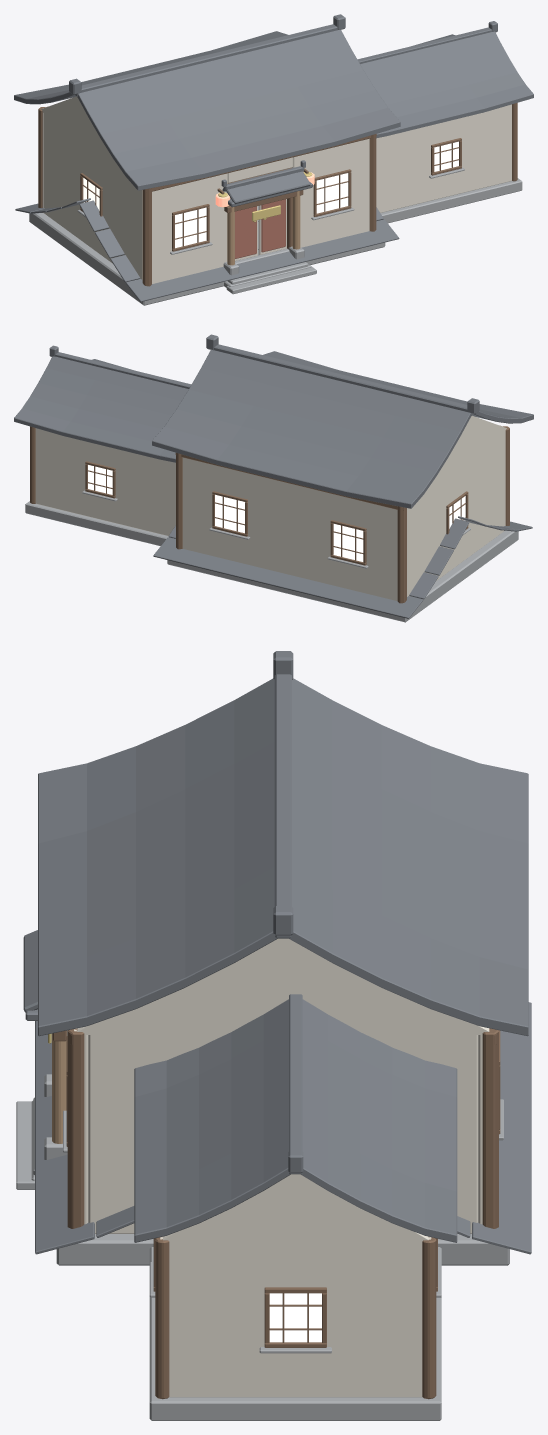
Rendered from house_l2.glb.
The picture shows the model from 3 angles, top to bottom: view 1: azimuth 30°, elevation 25°; view 2: azimuth 150°, elevation 25°; view 3: azimuth 270°, elevation 25°; orthographic projection. The views are drawn at different scales.
Visible parts, largest first — view 1: Roof_All, Wall_All, Decor_All; view 2: Roof_All, Wall_All; view 3: Roof_All, Wall_All, Decor_All.
Part boxes in pixels (x1,y1,x2,y2): Roof_All: (14, 14, 533, 301); Wall_All: (29, 96, 522, 305); Decor_All: (215, 160, 316, 294); Roof_All: (14, 334, 533, 618); Wall_All: (25, 415, 518, 622); Roof_All: (23, 651, 531, 1254); Wall_All: (56, 938, 509, 1420); Decor_All: (16, 1030, 67, 1189).
Bounding box in the file's own units: 15.75 × 6.54 × 8.3.
